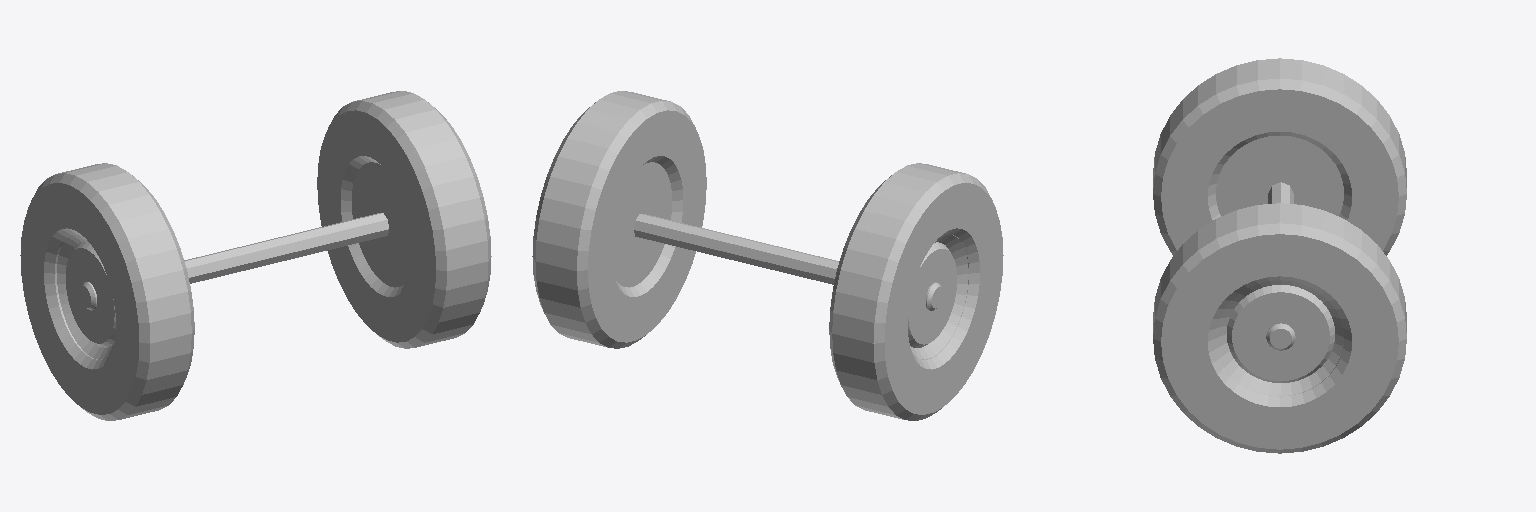
File: frontpos.obj
3 renders of one model, left to right at view 1: azimuth 30°, elevation 25°; view 2: azimuth 150°, elevation 25°; view 3: azimuth 270°, elevation 25°, orthographic.
Parts seen in each view (by area): view 1: Elso_jobb; view 2: Elso_jobb; view 3: Elso_jobb.
Boxes of the visible parts, box(x1,y1,x2,y2) form: Elso_jobb: box(20, 91, 491, 420); Elso_jobb: box(532, 91, 1003, 420); Elso_jobb: box(1153, 58, 1406, 453).
Size of the model in its own units: 1.45 by 0.9033 by 0.9033.